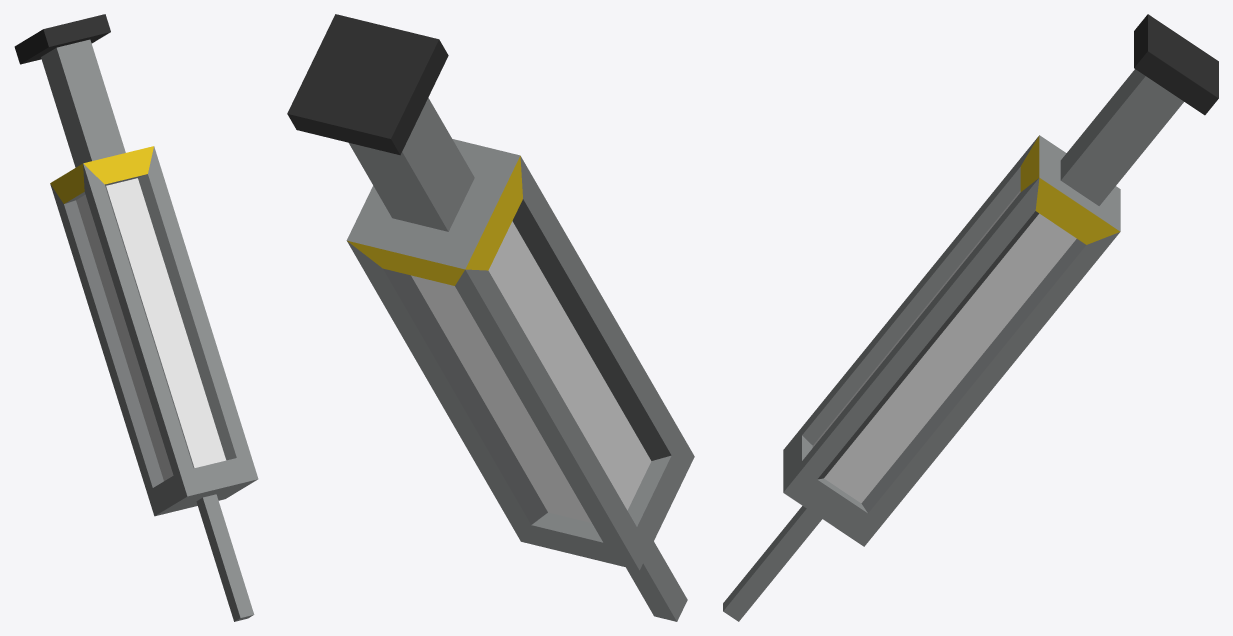
File: Syringe_empty.fbx
3 renders of one model, left to right at view 1: azimuth 30°, elevation 25°; view 2: azimuth 150°, elevation 25°; view 3: azimuth 270°, elevation 25°, orthographic. The views are drawn at different scales.
Visible parts, largest first — view 1: Cube; view 2: Cube; view 3: Cube.
Boxes of the visible parts, x1,y1,x2,y2 form: Cube: (14,14,258,621); Cube: (287,14,694,621); Cube: (723,14,1218,621).
Bounding box in the file's own units: 46.64 × 299 × 230.
